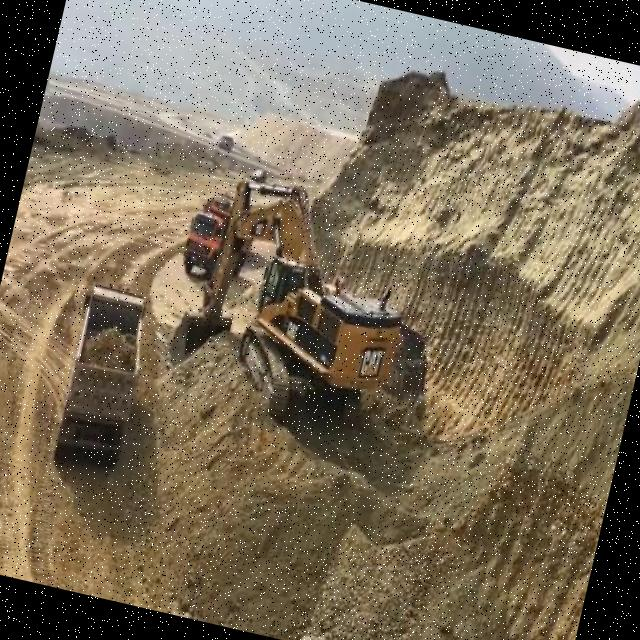Dump Truck: (48, 278, 156, 468), (177, 190, 260, 287), (384, 323, 436, 402)
Excavator: (156, 152, 430, 446)
